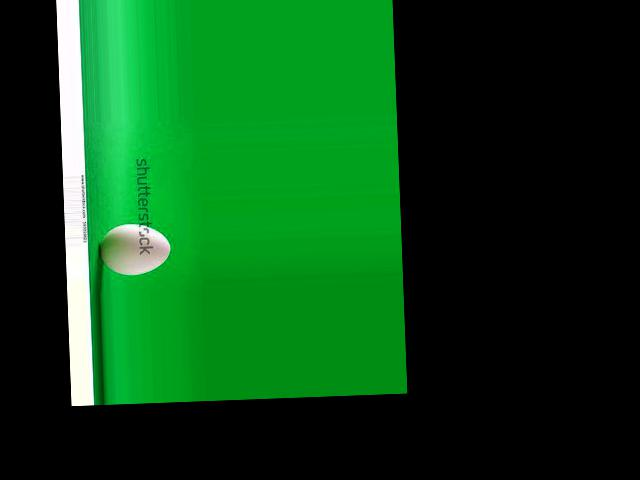egg: (97, 222, 170, 277)
